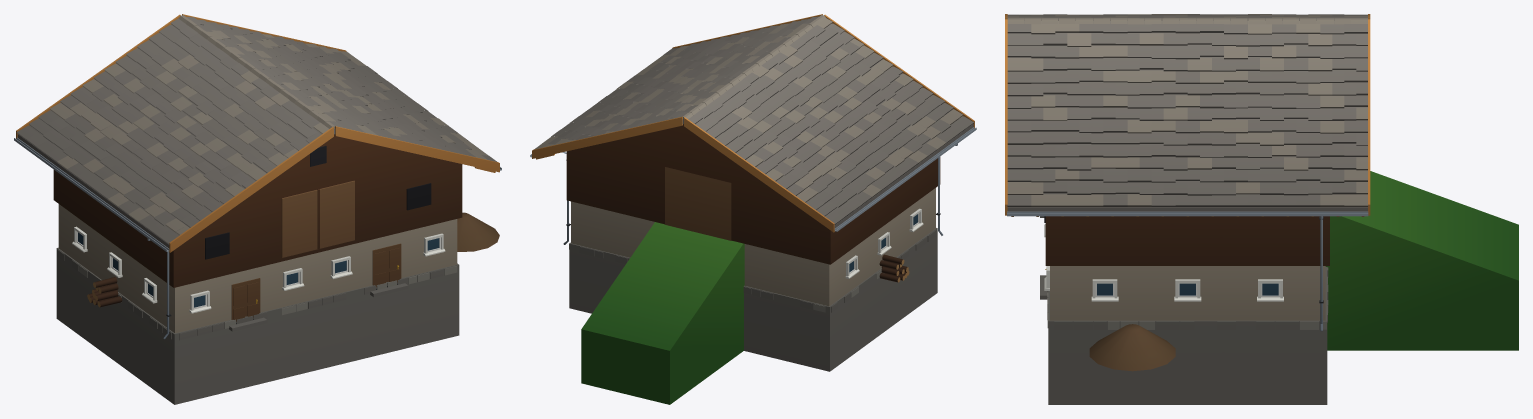
File: Barn_Alpine.fbx
The picture shows the model from 3 angles, left to right: view 1: azimuth 30°, elevation 25°; view 2: azimuth 150°, elevation 25°; view 3: azimuth 270°, elevation 25°; orthographic projection. The views are drawn at different scales.
Parts seen in each view (by area): view 1: Barn_Alpine_LOD0; view 2: Barn_Alpine_LOD0; view 3: Barn_Alpine_LOD0.
Boxes of the visible parts, bbox=[...] form: Barn_Alpine_LOD0: bbox=[14, 14, 501, 404]; Barn_Alpine_LOD0: bbox=[530, 14, 976, 404]; Barn_Alpine_LOD0: bbox=[1005, 14, 1518, 404].
Size of what is drawn, in the model's own units: 18.91 by 12.15 by 18.62.
Materials: 1 (1 with a texture image).
